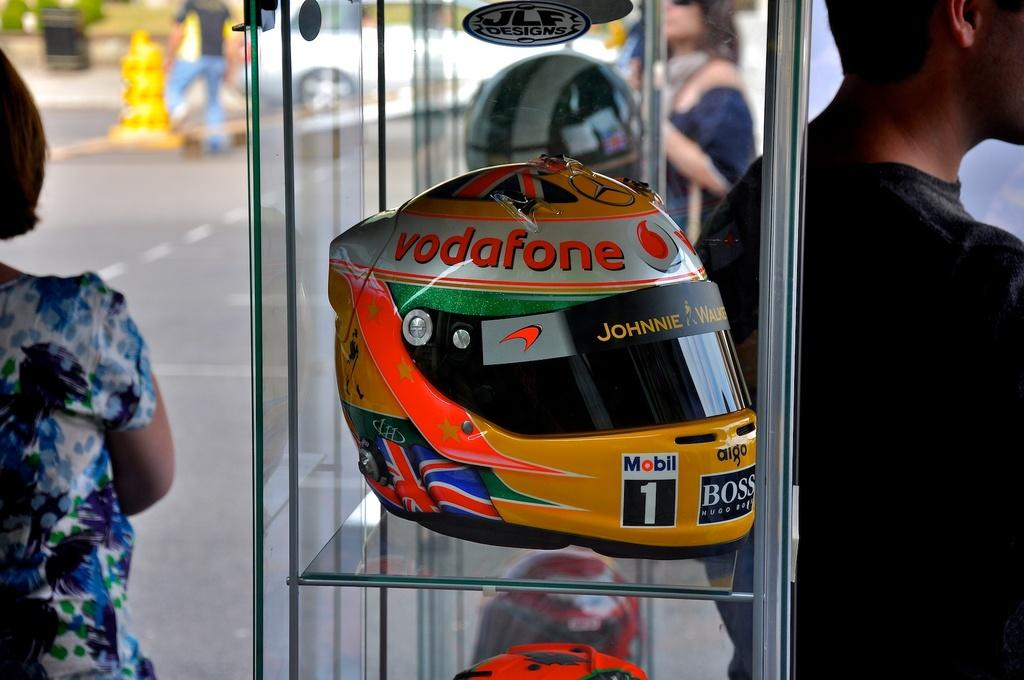helmet: (327, 162, 757, 560), (464, 50, 650, 233), (469, 545, 639, 680)
